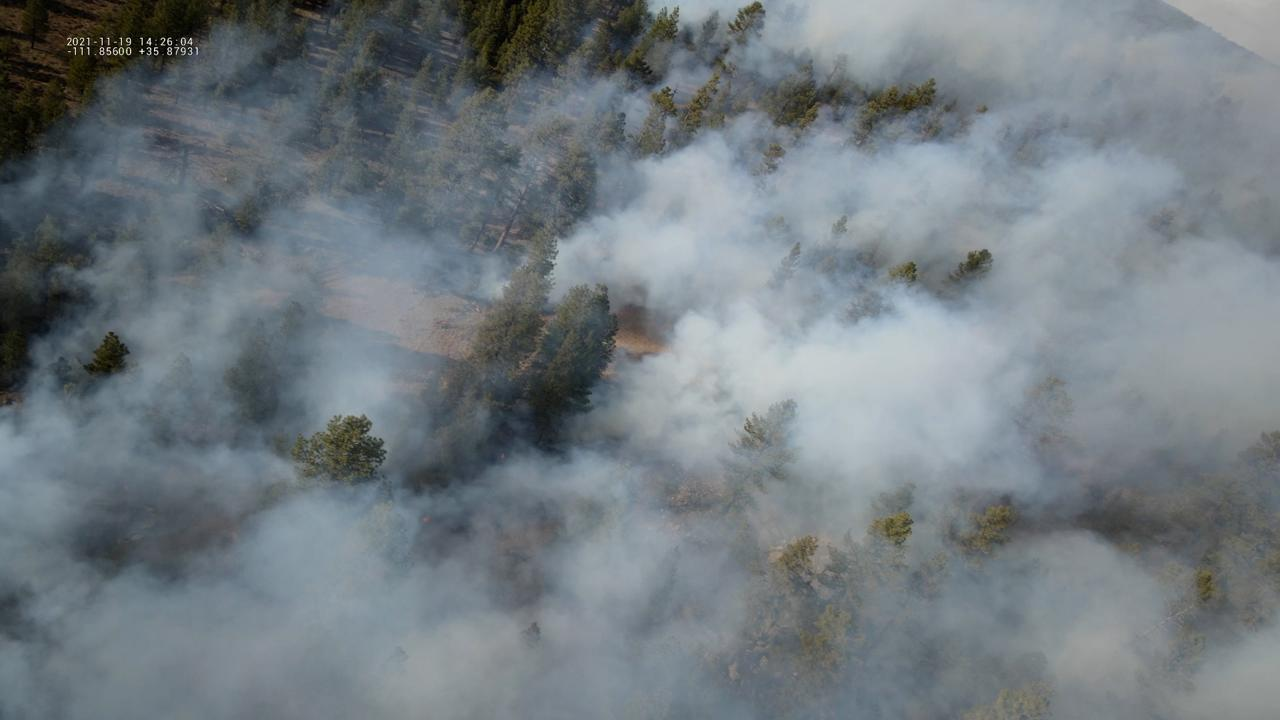fire: (422, 515, 431, 523)
smoke: (0, 0, 1280, 720)
